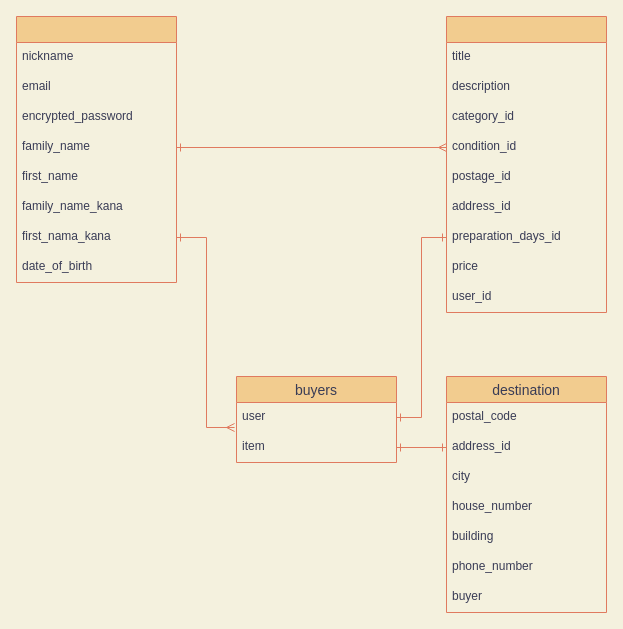
Some shapes in this 623 by 629 pixel diagram are drawn without their labels. The shapes that lost their labels are listed below. From the top down, each one's box as (x1, y1, x2, y2) in pixels, then its label:
(16, 16, 176, 282): users
(446, 16, 606, 312): items
